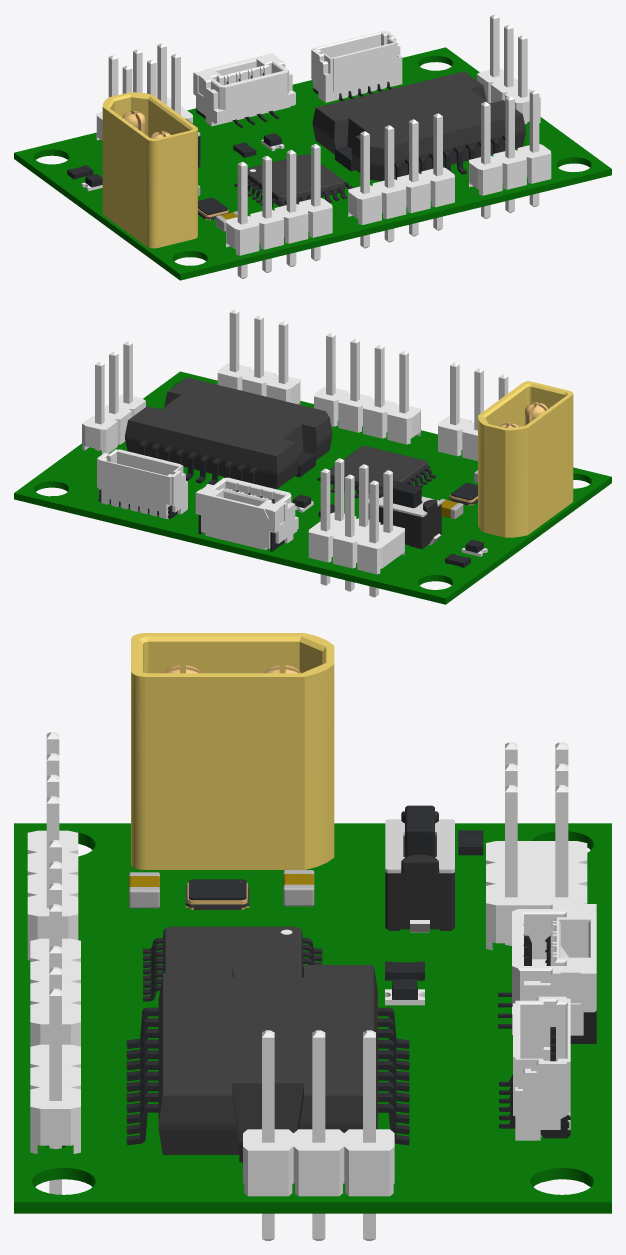
3 views of the same model, one above another, from view 1: azimuth 30°, elevation 25°; view 2: azimuth 150°, elevation 25°; view 3: azimuth 270°, elevation 25° (orthographic). The views are drawn at different scales.
Parts seen in each view (by area): view 1: part-0, part-28, part-130, part-83, part-5, part-95, part-148, part-65, part-63, part-149, part-92, part-94 (+16 smaller); view 2: part-0, part-130, part-28, part-83, part-5, part-90, part-148, part-63, part-65, part-149, part-131, part-95 (+20 smaller); view 3: part-0, part-28, part-130, part-149, part-83, part-5, part-63, part-90, part-131, part-65, part-95, part-148 (+10 smaller).
Part boxes in pixels (bbox=[...]): part-0: bbox=[14, 47, 611, 280]; part-28: bbox=[102, 92, 197, 248]; part-130: bbox=[312, 71, 525, 180]; part-83: bbox=[193, 53, 295, 126]; part-5: bbox=[311, 31, 402, 102]; part-95: bbox=[226, 198, 332, 255]; part-148: bbox=[348, 167, 454, 224]; part-65: bbox=[469, 144, 551, 195]; part-63: bbox=[247, 154, 345, 206]; part-149: bbox=[477, 68, 540, 123]; part-92: bbox=[286, 150, 296, 266]; part-94: bbox=[237, 162, 247, 278]; part-0: bbox=[14, 371, 611, 604]; part-130: bbox=[125, 377, 332, 489]; part-28: bbox=[478, 381, 573, 537]; part-83: bbox=[195, 477, 298, 550]; part-5: bbox=[97, 449, 187, 518]; part-90: bbox=[308, 512, 404, 574]; part-148: bbox=[314, 387, 420, 444]; part-63: bbox=[329, 445, 428, 493]; part-65: bbox=[217, 363, 300, 404]; part-149: bbox=[82, 394, 145, 454]; part-131: bbox=[368, 486, 441, 549]; part-95: bbox=[438, 416, 477, 461]; part-0: bbox=[14, 823, 611, 1213]; part-28: bbox=[131, 633, 334, 869]; part-130: bbox=[158, 965, 377, 1154]; part-149: bbox=[243, 1129, 394, 1196]; part-83: bbox=[512, 904, 596, 1035]; part-5: bbox=[513, 996, 570, 1140]; part-63: bbox=[163, 926, 302, 977]; part-90: bbox=[486, 841, 587, 950]; part-131: bbox=[385, 811, 454, 930]; part-65: bbox=[30, 1044, 80, 1153]; part-95: bbox=[27, 830, 78, 960]; part-148: bbox=[30, 938, 80, 1046].
Size of the model in its own units: 0.045 by 0.0137 by 0.03.
